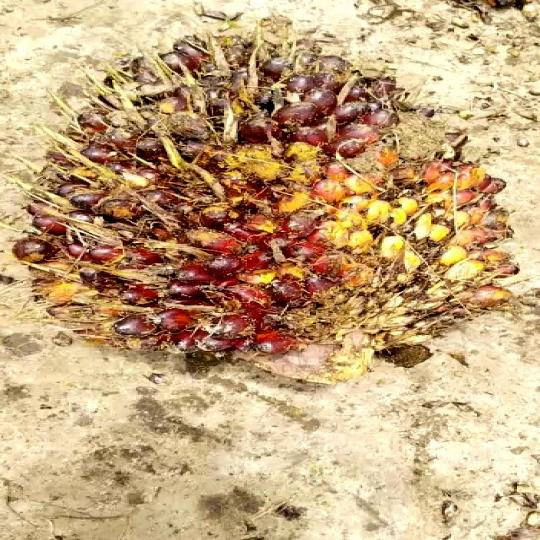masak: (16, 14, 540, 351)
